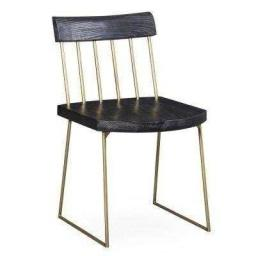Chair: (52, 11, 210, 245)
